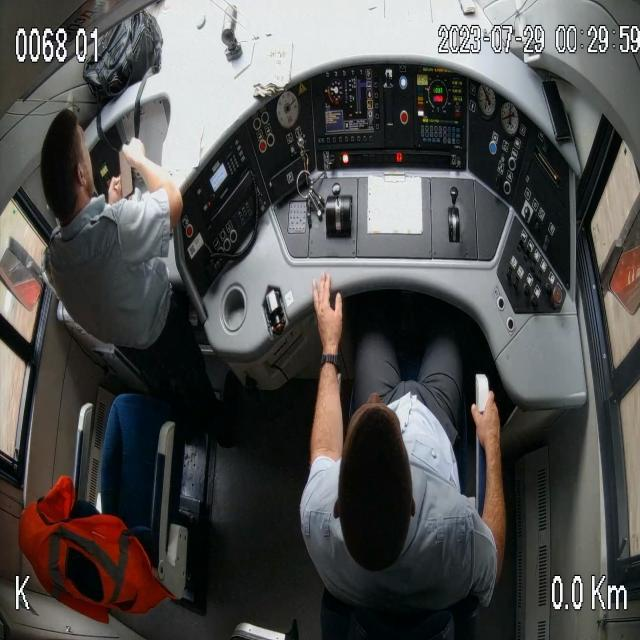smartphone: (114, 136, 138, 200)
